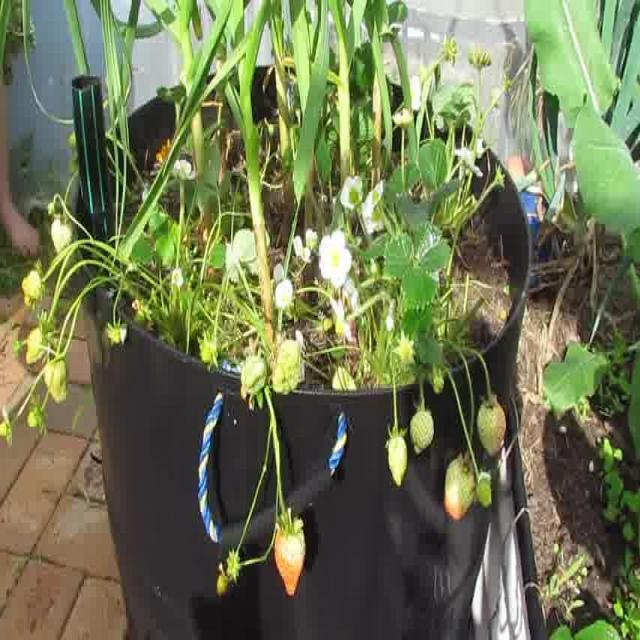Fruta sana: (274, 514, 306, 596), (476, 394, 506, 458), (26, 310, 56, 363), (44, 337, 68, 403), (272, 340, 300, 395), (240, 352, 270, 394), (24, 256, 49, 306), (21, 256, 48, 299), (199, 328, 218, 368), (27, 393, 48, 427), (475, 468, 492, 508), (227, 544, 242, 587), (332, 367, 358, 390), (0, 406, 13, 447), (107, 318, 121, 348), (217, 566, 229, 598), (433, 370, 445, 394), (66, 130, 78, 150), (68, 156, 80, 173), (324, 318, 333, 332), (48, 203, 56, 215)
Moho gris: (443, 448, 475, 520), (410, 406, 438, 454), (388, 427, 408, 487)
Oído: (52, 212, 74, 253)
